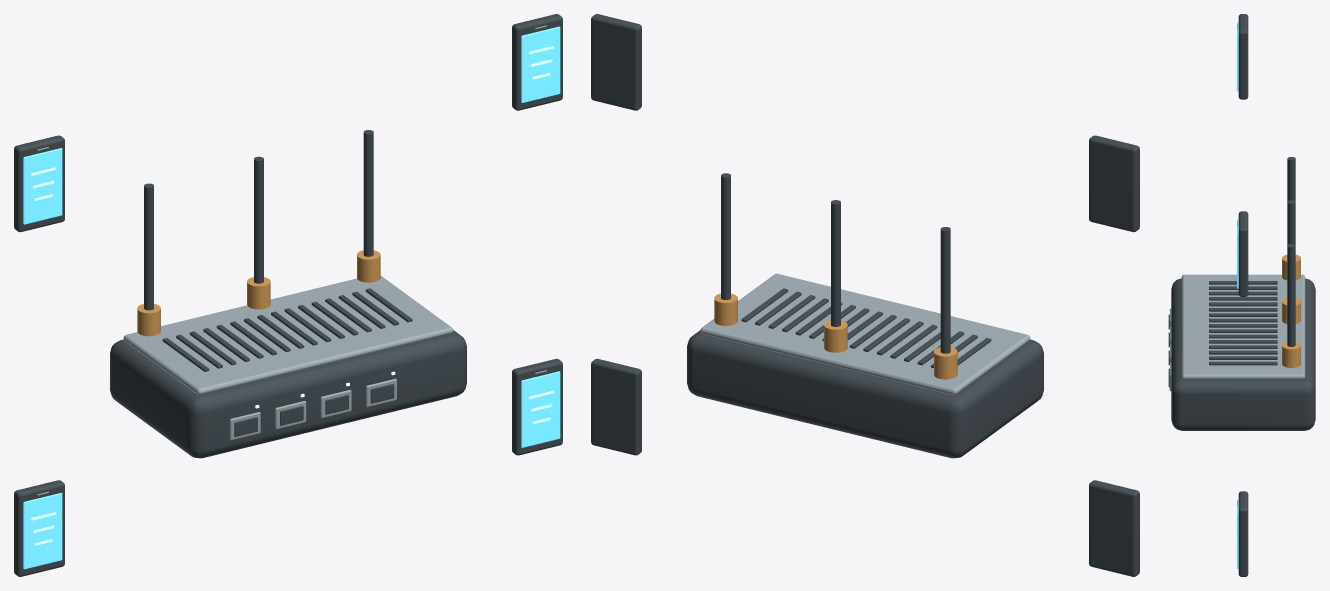
Rendered from bonton-router.glb.
The picture shows the model from 3 angles, left to right: view 1: azimuth 30°, elevation 25°; view 2: azimuth 150°, elevation 25°; view 3: azimuth 270°, elevation 25°; orthographic projection. The views are drawn at different scales.
Parts seen in each view (by area): view 1: Router body, Top panel, Display, Display.001, Display.002, Display.003, Device enclosure, Device enclosure.003, Device enclosure.002, Device enclosure.001, Antenna.002, Antenna (+4 smaller); view 2: Router body, Top panel, Device enclosure, Device enclosure.003, Device enclosure.001, Device enclosure.002, Antenna, Antenna.001, Antenna.002, Antenna base, Antenna base.001, Antenna base.002; view 3: Router body, Top panel, Device enclosure, Device enclosure.003, Device enclosure.001, Antenna.002, Antenna base.002, Antenna, Antenna.001, Vent slot.007, Vent slot.010, Vent slot.015 (+15 smaller).
Boxes of the visible parts, bbox=[...] form: Router body: bbox=[110, 330, 466, 458]; Top panel: bbox=[123, 276, 453, 395]; Display: bbox=[23, 148, 62, 224]; Display.001: bbox=[521, 26, 560, 102]; Display.002: bbox=[23, 493, 62, 569]; Display.003: bbox=[521, 371, 560, 447]; Device enclosure: bbox=[14, 135, 64, 232]; Device enclosure.003: bbox=[512, 358, 562, 455]; Device enclosure.002: bbox=[14, 480, 64, 576]; Device enclosure.001: bbox=[512, 14, 562, 110]; Antenna.002: bbox=[363, 130, 373, 256]; Antenna: bbox=[144, 183, 153, 310]; Router body: bbox=[687, 330, 1043, 458]; Top panel: bbox=[700, 273, 1030, 395]; Device enclosure: bbox=[1089, 135, 1139, 232]; Device enclosure.003: bbox=[591, 358, 641, 455]; Device enclosure.001: bbox=[591, 14, 641, 110]; Device enclosure.002: bbox=[1089, 480, 1139, 576]; Antenna: bbox=[940, 227, 950, 353]; Antenna.001: bbox=[831, 200, 840, 326]; Antenna.002: bbox=[721, 173, 730, 299]; Antenna base: bbox=[934, 347, 957, 379]; Antenna base.001: bbox=[824, 320, 847, 352]; Antenna base.002: bbox=[714, 293, 737, 325]; Router body: bbox=[1171, 278, 1315, 430]; Top panel: bbox=[1181, 274, 1305, 379]; Device enclosure: bbox=[1238, 14, 1248, 99]; Device enclosure.003: bbox=[1238, 491, 1248, 576]; Device enclosure.001: bbox=[1238, 211, 1248, 296]; Antenna.002: bbox=[1287, 244, 1295, 346]; Antenna base.002: bbox=[1282, 341, 1300, 367]; Antenna: bbox=[1287, 157, 1295, 201]; Antenna.001: bbox=[1287, 200, 1295, 244]; Vent slot.007: bbox=[1209, 318, 1277, 322]; Vent slot.010: bbox=[1209, 334, 1277, 338]; Vent slot.015: bbox=[1209, 361, 1277, 365].
Size of the model in its own units: 7.45 by 5.6 by 2.14.
